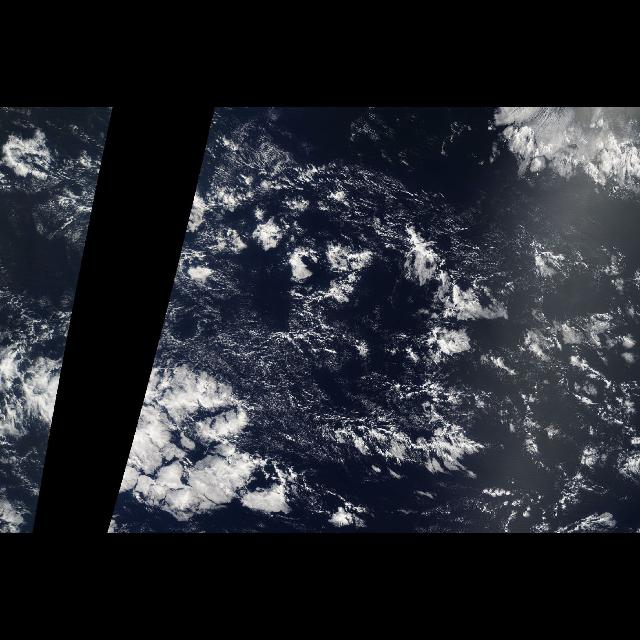Fish: (286, 388, 550, 512)
Sugar: (164, 296, 364, 476), (324, 162, 530, 274)
